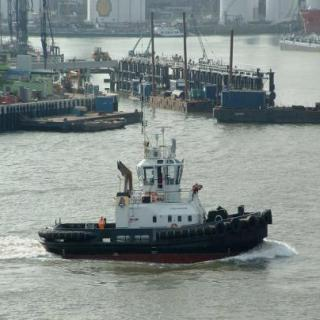Tug Boat: (45, 139, 278, 259)
